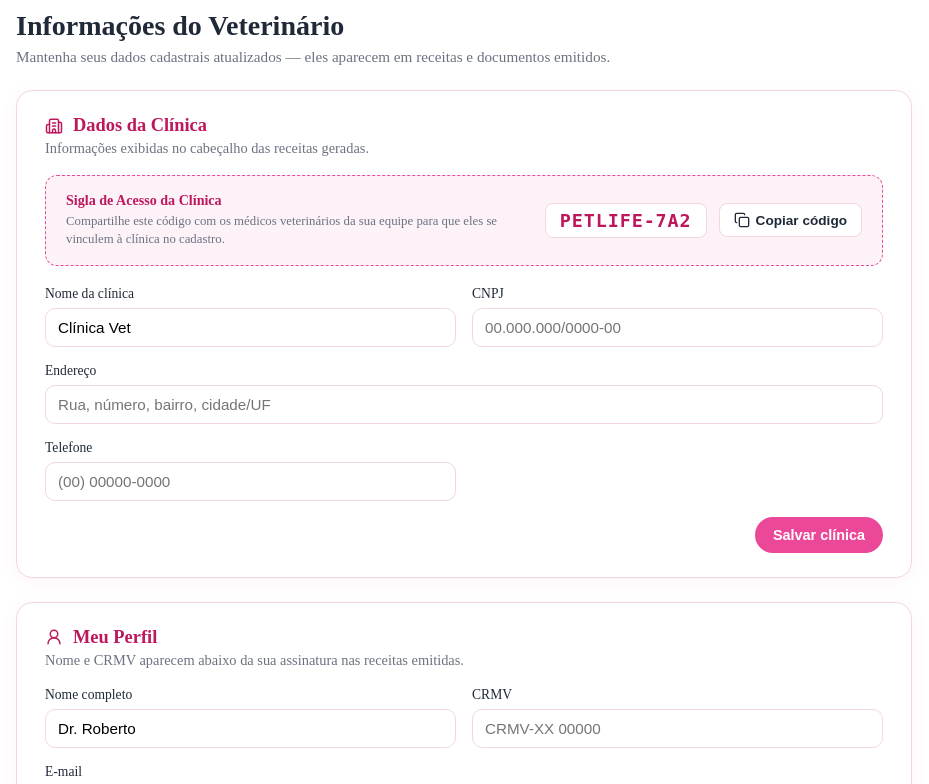
Test: SettingsPage — Formulários de Clínica e Perfil (CNPJ, Telefone, CRMV) › deve exibir a sigla da clínica e permitir copiar para a área de transferência quando for OWNER
Check: the text with test id "clinic-code-badge" reads "PETLIFE-7A2", box top-left (560, 210), bottom-right (692, 231)
Click the button "Copiar código". click: (790, 220)
box: top-left (719, 203), bottom-right (862, 237)
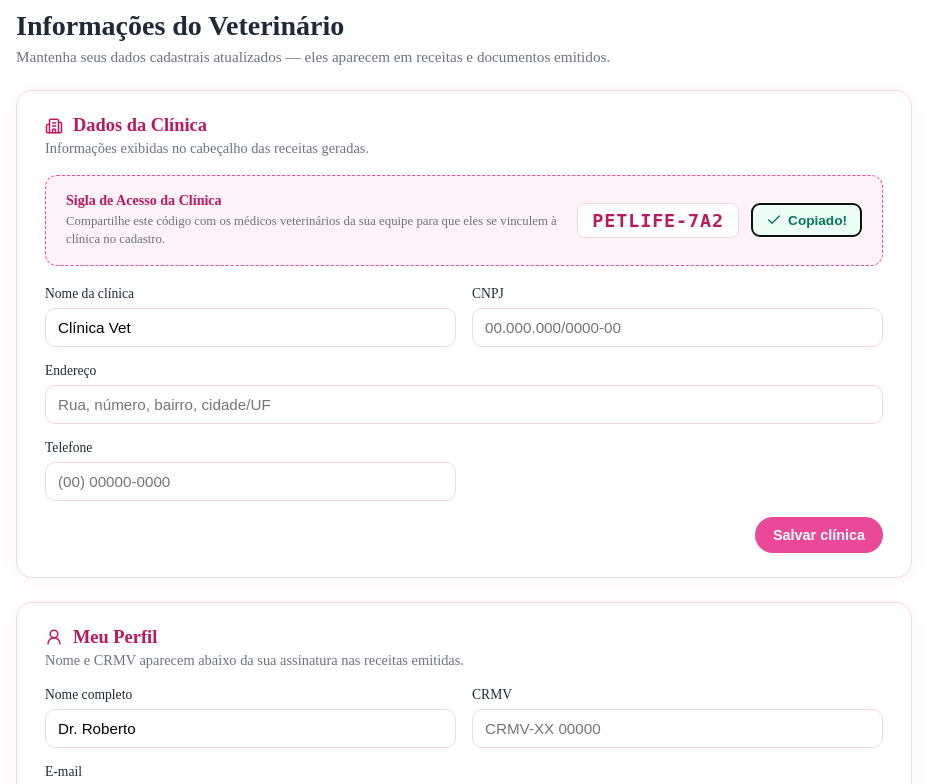
Check: the text "Copiado!" is shown, box top-left (788, 213), bottom-right (847, 228)
